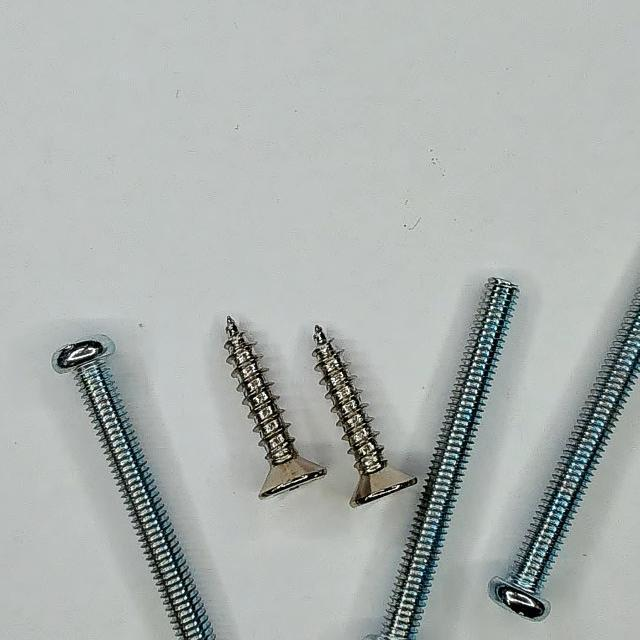Screw: (372, 278, 519, 640), (490, 289, 640, 622), (52, 336, 215, 640), (313, 326, 418, 508), (224, 316, 327, 498)
